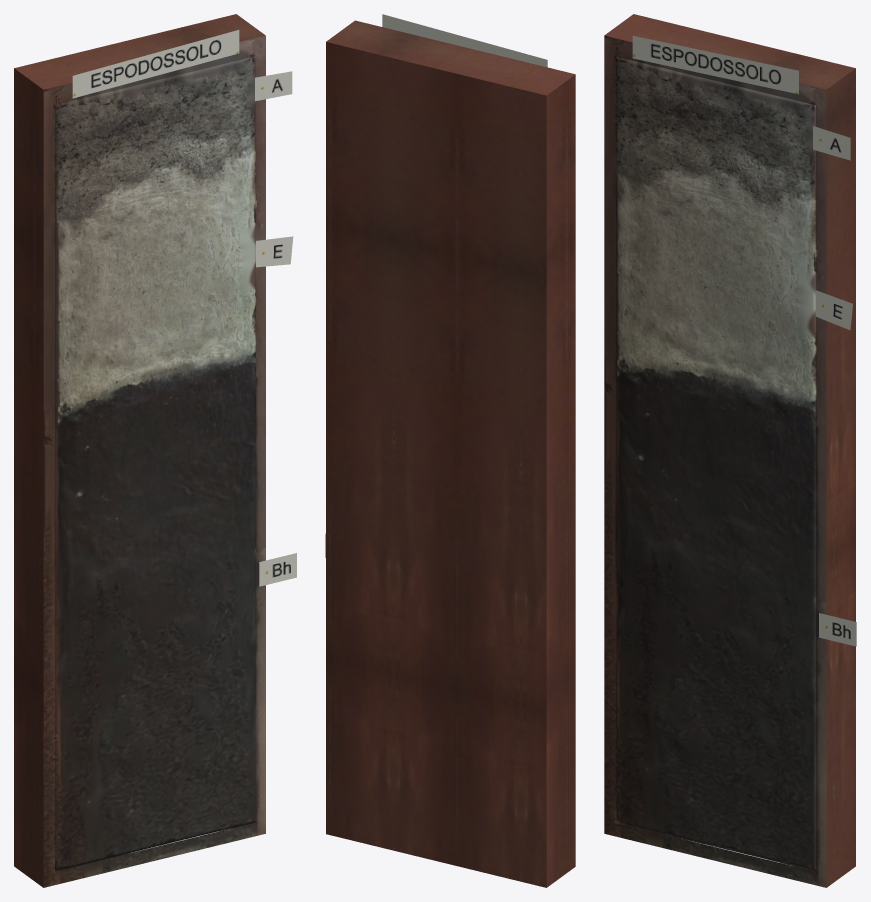
The model's file is perfil_11_07_espodossolo.glb.
3 renders of one model, left to right at view 1: azimuth 30°, elevation 25°; view 2: azimuth 150°, elevation 25°; view 3: azimuth 330°, elevation 25°, orthographic.
Parts seen in each view (by area): view 1: Solo_11_07, Madeira_11_07, Moldura_11_07, Rotulos_11_07; view 2: Madeira_11_07, Rotulos_11_07; view 3: Solo_11_07, Madeira_11_07, Moldura_11_07, Rotulos_11_07.
Part boxes in pixels (<box>): Solo_11_07: <box>55,56,256,871</box>; Madeira_11_07: <box>14,14,265,887</box>; Moldura_11_07: <box>43,35,265,887</box>; Rotulos_11_07: <box>72,30,296,586</box>; Madeira_11_07: <box>326,20,575,887</box>; Rotulos_11_07: <box>325,14,547,557</box>; Solo_11_07: <box>614,56,815,871</box>; Madeira_11_07: <box>604,14,855,887</box>; Moldura_11_07: <box>604,35,826,887</box>; Rotulos_11_07: <box>632,35,856,646</box>.
Size of the model in its own units: 0.3625 by 1.11 by 0.0829.
4 materials, 4 textured.
